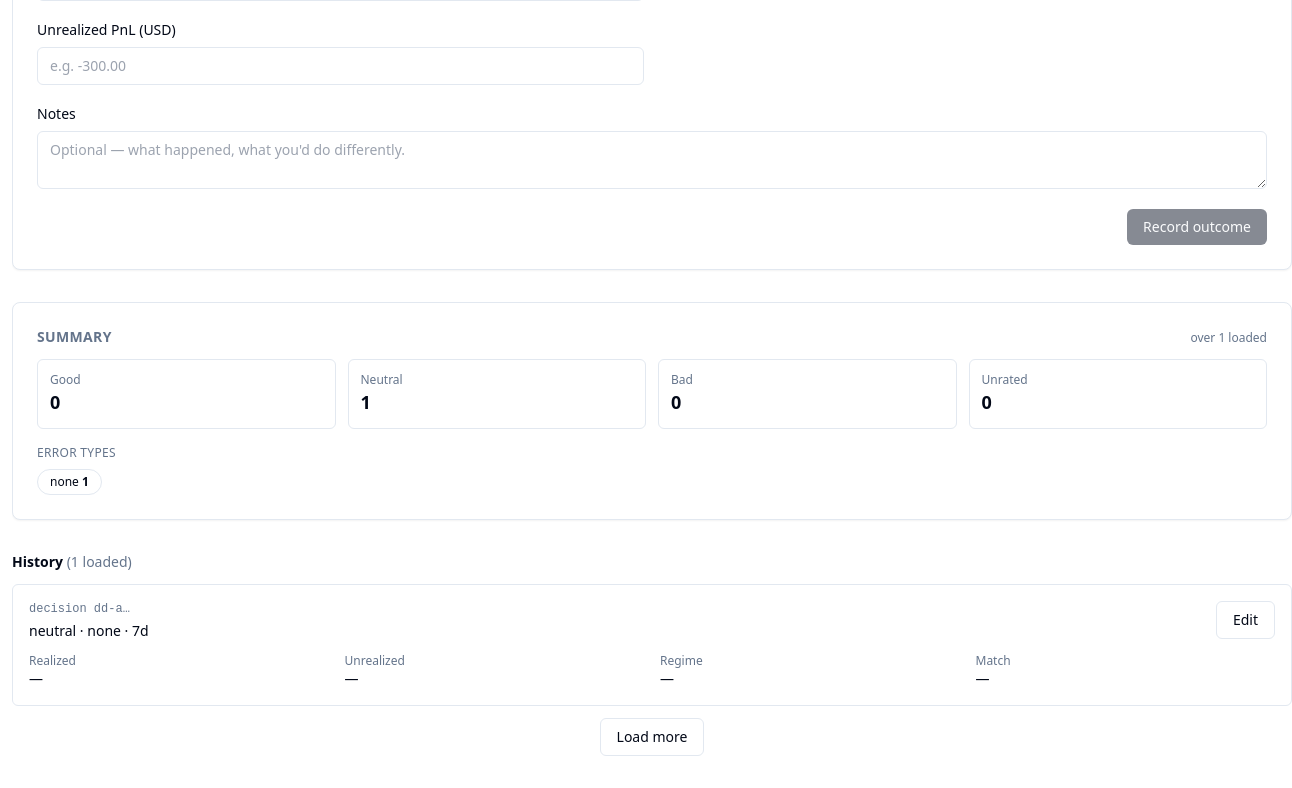
it: OutcomeTracker › appends the next cursor page and hides Load more when exhausted
The image size is (1292, 788).
(page scrolled)
Click the button with test id "load-more-button": [652, 737] box x1=600 y1=718 x2=704 y2=756
(page scrolled)
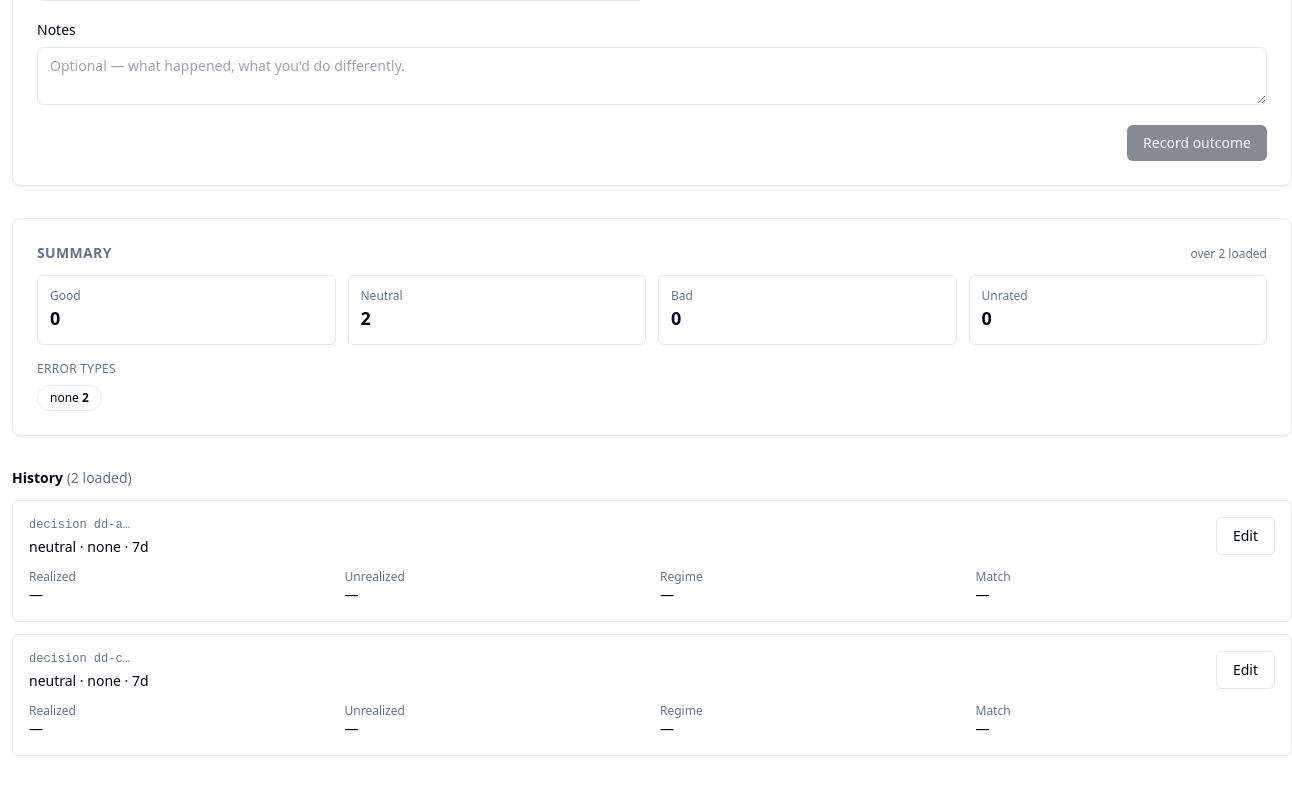
Expected: the button with test id "load-more-button" is gone
